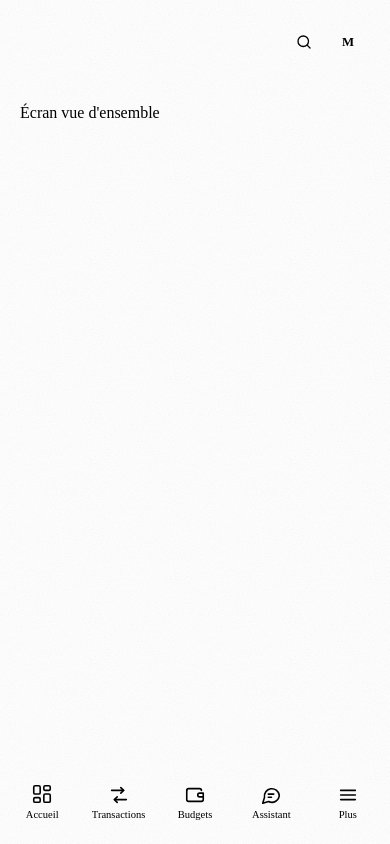
Test: AppShell › the « Plus » sheet › opens from the tab bar and says so
Click the button "Plus" at [348, 808], box [310,778,386,838]
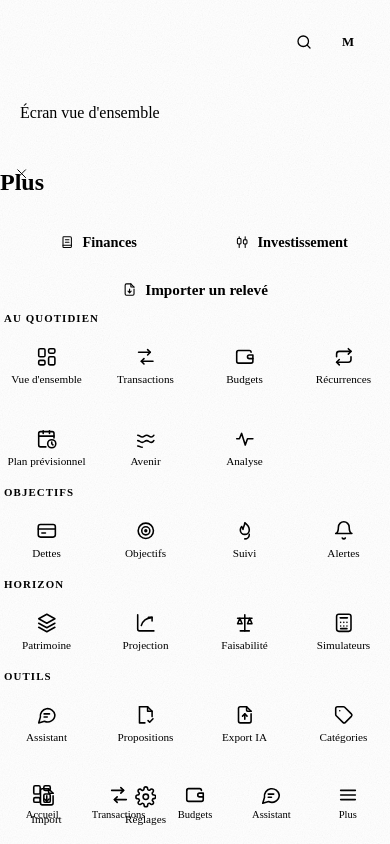
Now the dialog "Plus" is shown
